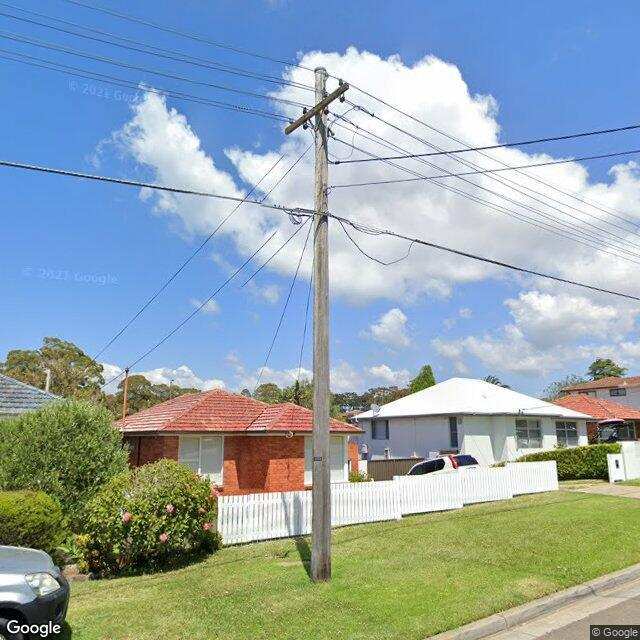crossarm: (284, 82, 350, 136)
timber-pole: (310, 68, 332, 582)
